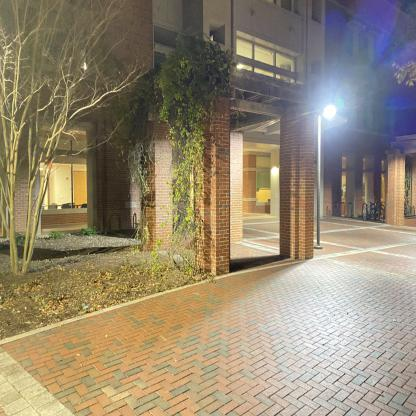eb2: (0, 0, 415, 222)
